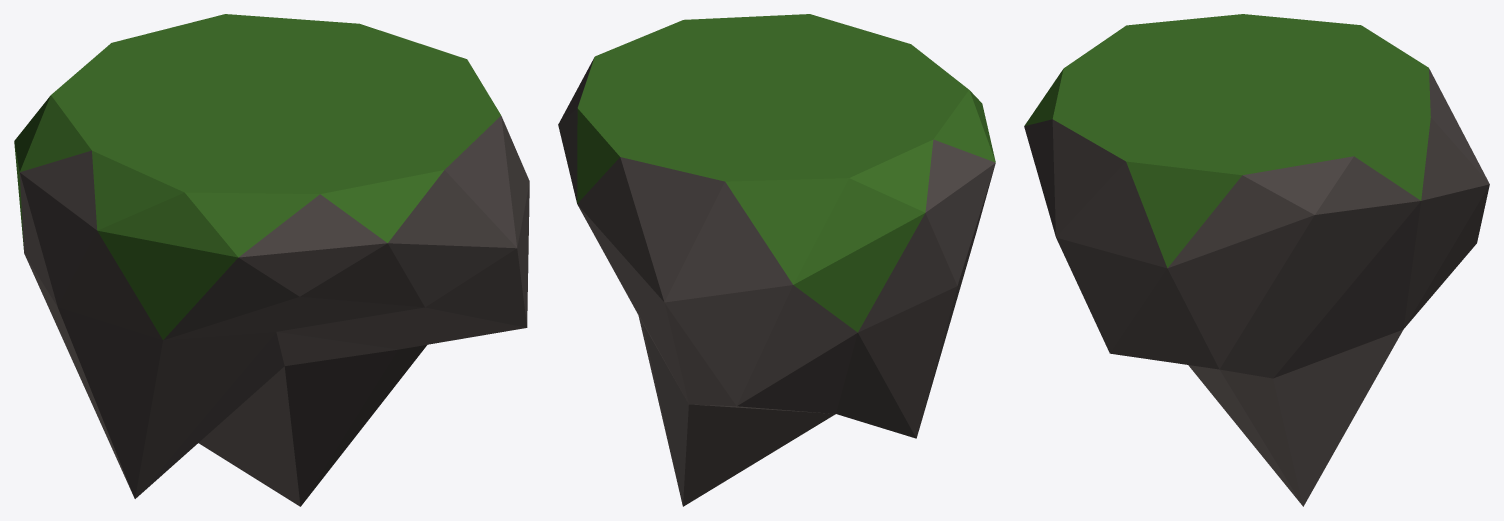
The model's file is FloatingIslandFlatTop.fbx.
3 renders of one model, left to right at view 1: azimuth 30°, elevation 25°; view 2: azimuth 150°, elevation 25°; view 3: azimuth 270°, elevation 25°, orthographic. The views are drawn at different scales.
Visible parts, largest first — view 1: Icosphere; view 2: Icosphere; view 3: Icosphere.
Boxes of the visible parts, left/top/right/bottom form: Icosphere: left=14, top=14, right=529, bottom=506; Icosphere: left=558, top=14, right=995, bottom=506; Icosphere: left=1024, top=14, right=1489, bottom=506.
Bounding box in the file's own units: 196 × 193 × 210.
